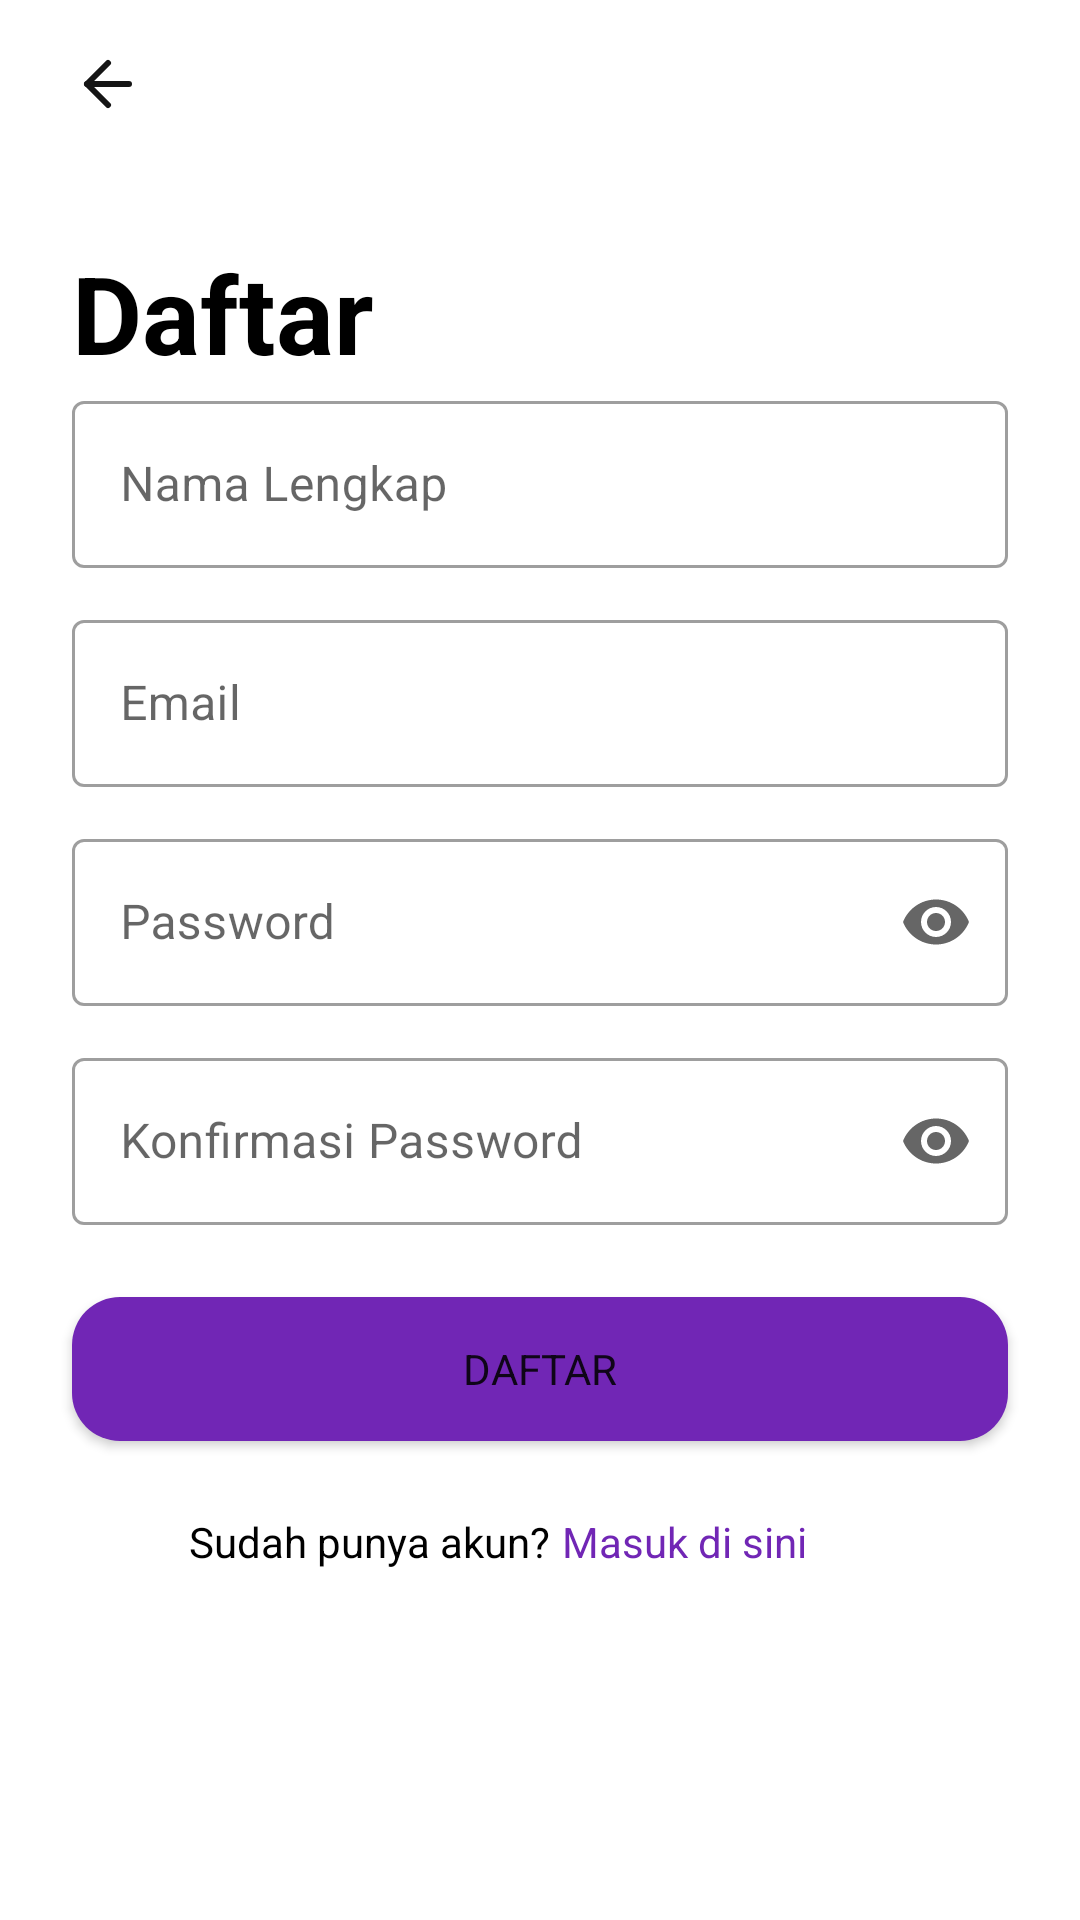

Icon bounding boxes for this 1080w x 1920h phone screenshot, format (x1, y1, x2, y2):
back button: (84, 60, 132, 108)
